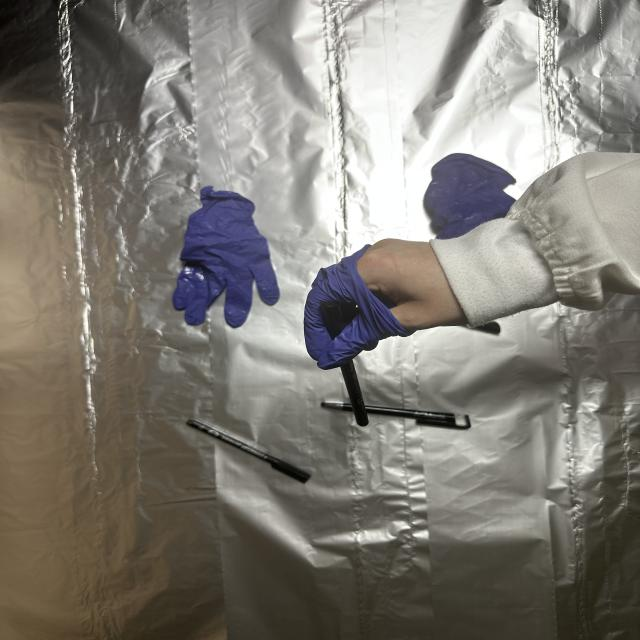glove_partial: (298, 236, 469, 366)
